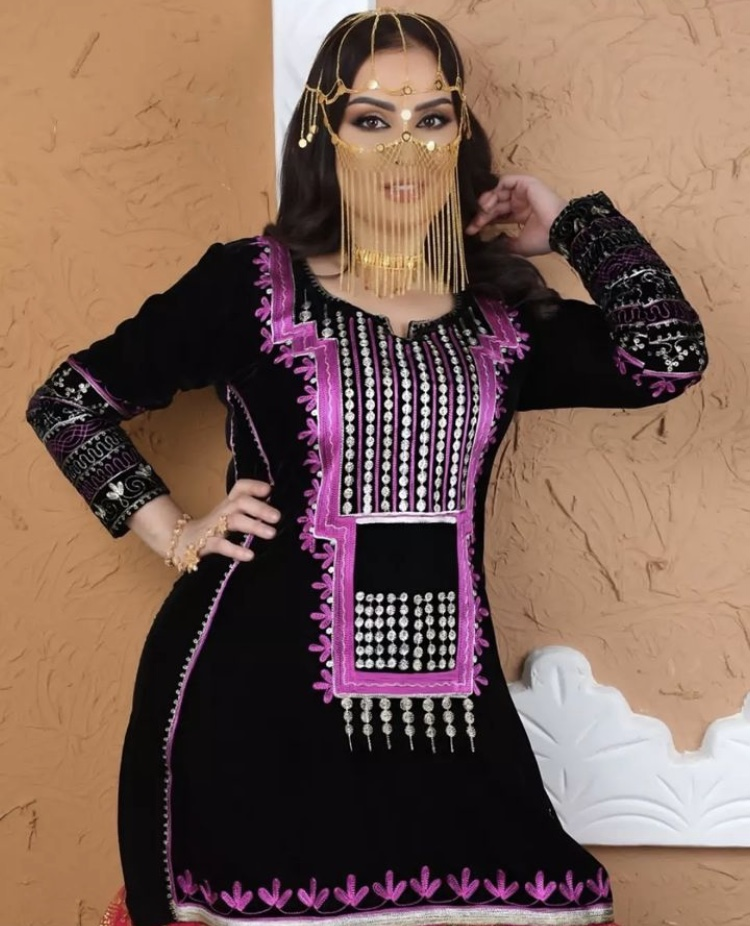Saudi_Founding_Day: (18, 6, 711, 926)
